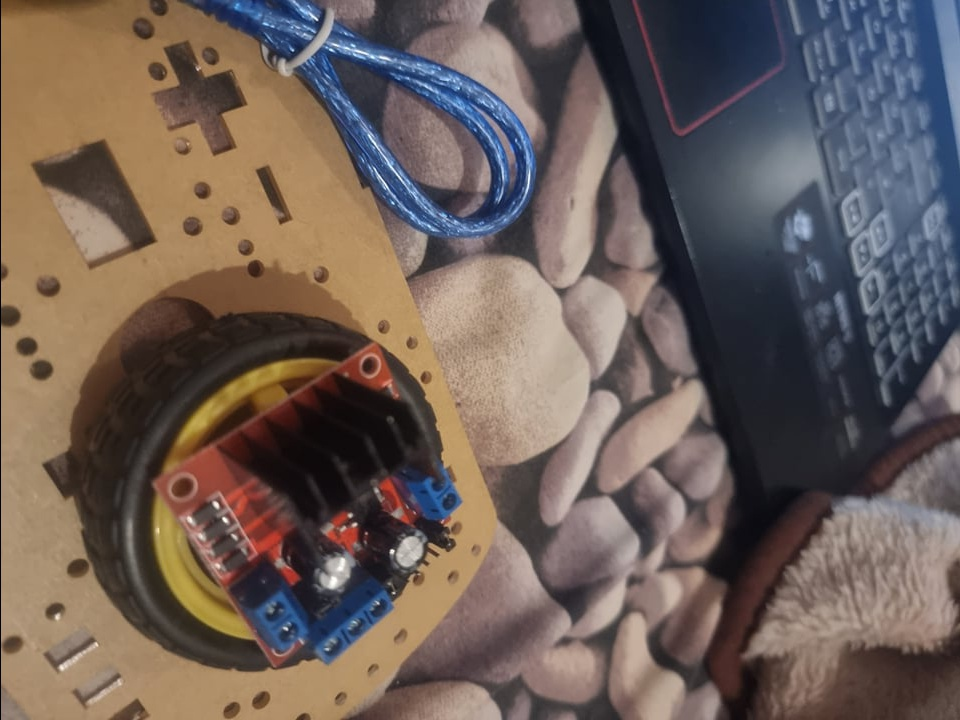MOTOR: (146, 343, 457, 667)
